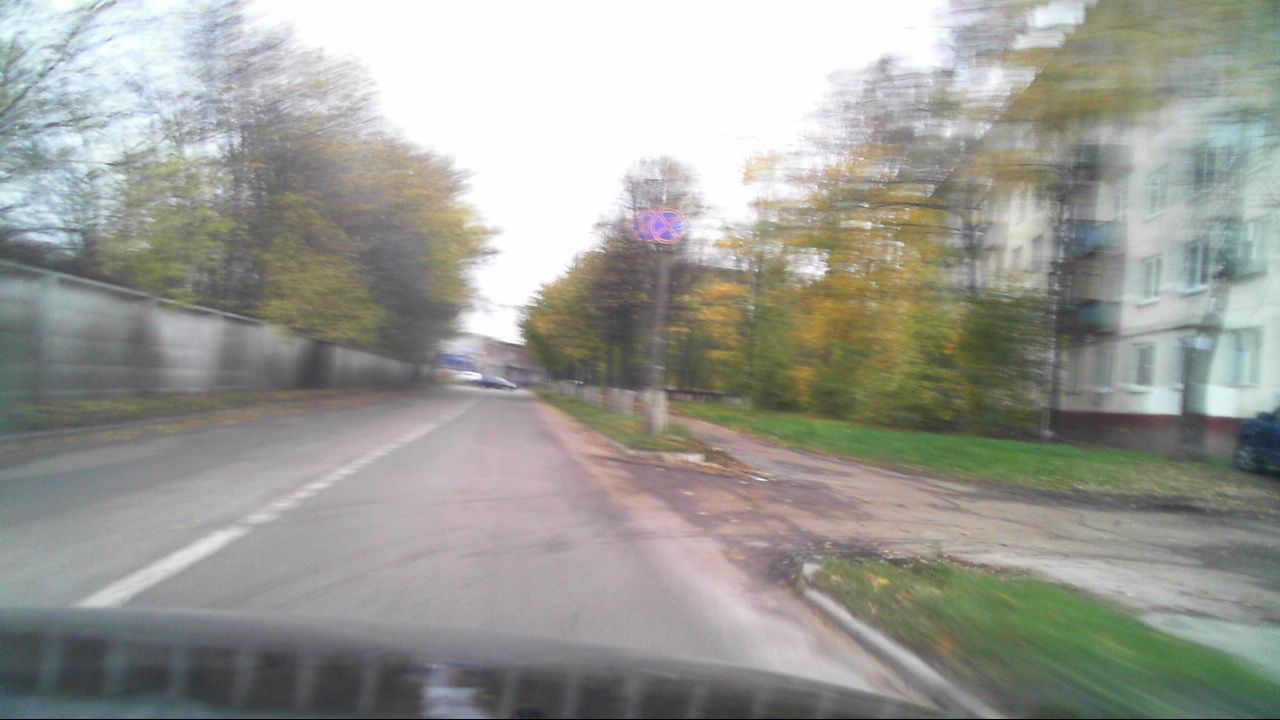No Parking: (650, 209, 686, 244)
